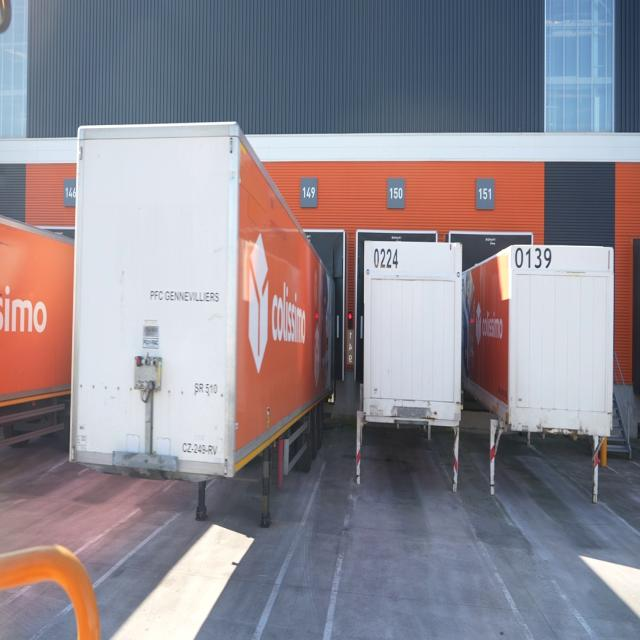Code: (513, 246, 553, 276), (373, 246, 402, 272)
